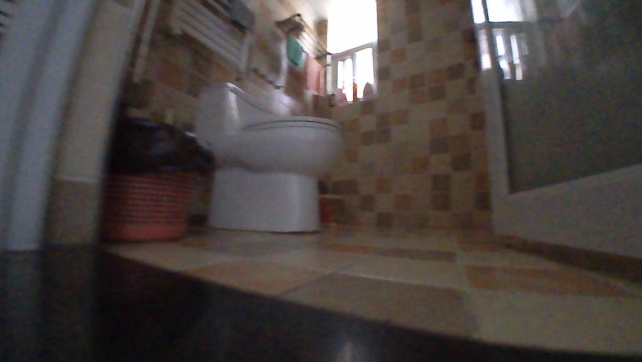toilet: (192, 78, 349, 236)
